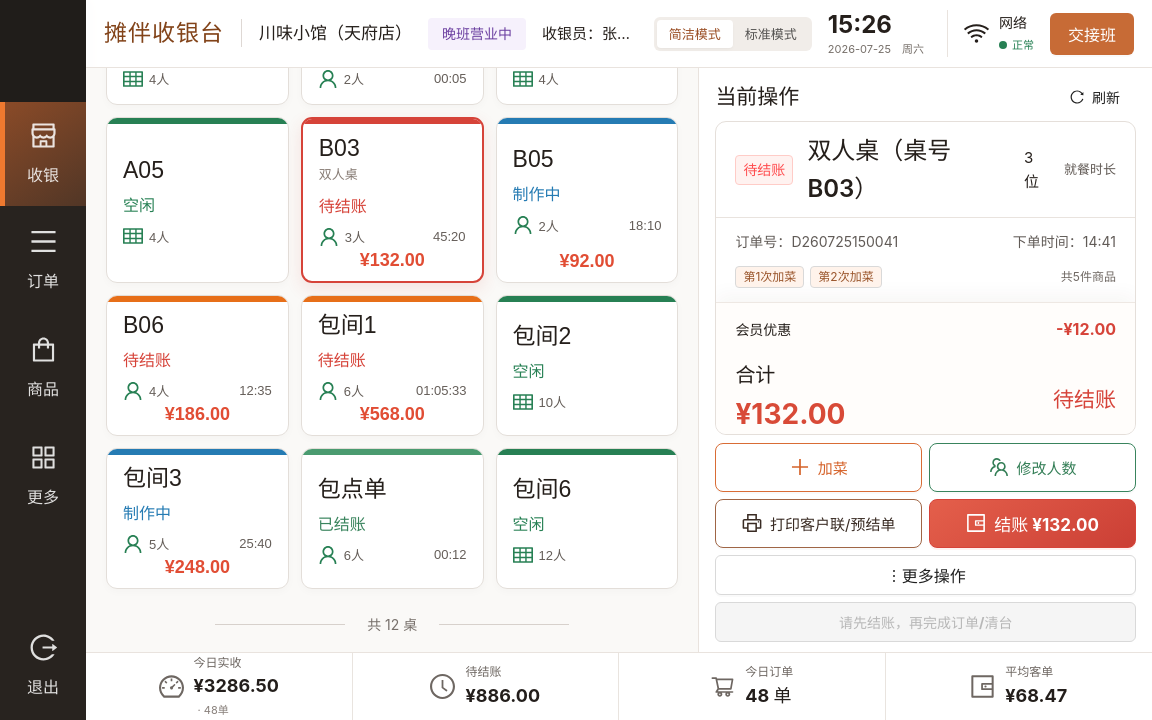
cashier operations › keeps rapid table switching in compact mode and focuses only in standard mode
The image size is (1152, 720).
(page scrolled)
Expected: the element with class "cashier-operation" is shown, [698, 68, 1151, 652]
Click the button "B06 待结账 4人 12:35 ¥186.00" at (197, 365), box [106, 295, 289, 436]
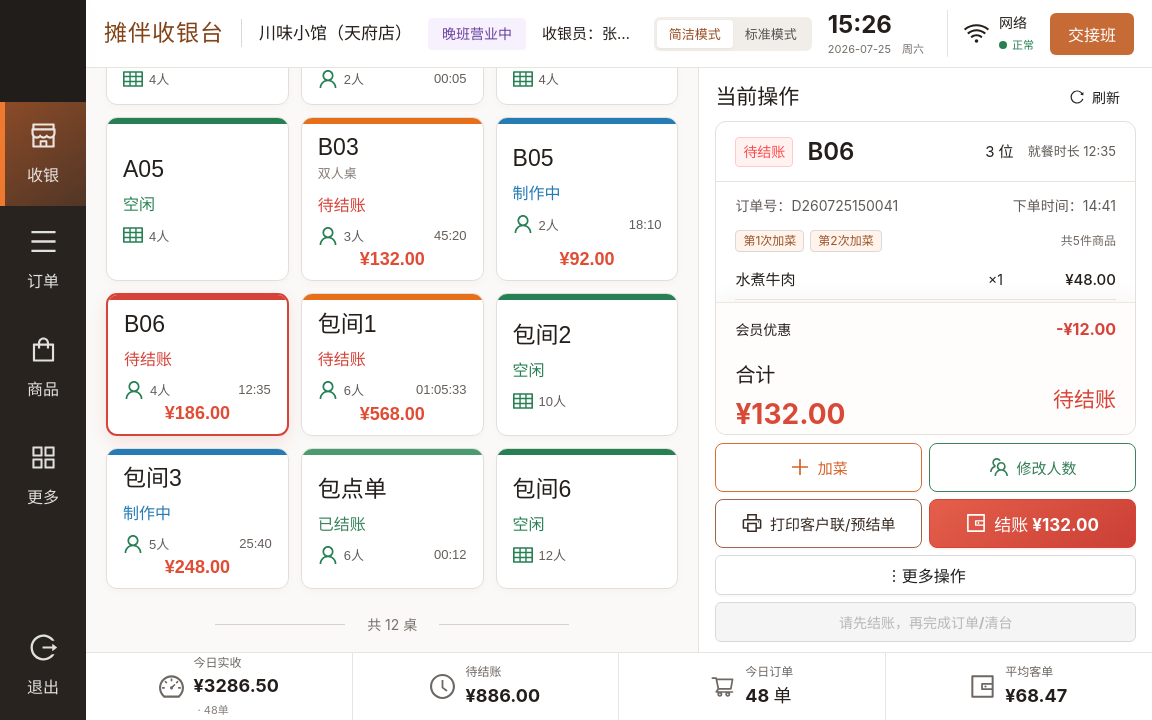
Expected: the element with class "cashier-operation" is shown, [698, 68, 1151, 652]
Click the text "标准模式" at (771, 34), box [745, 26, 797, 42]
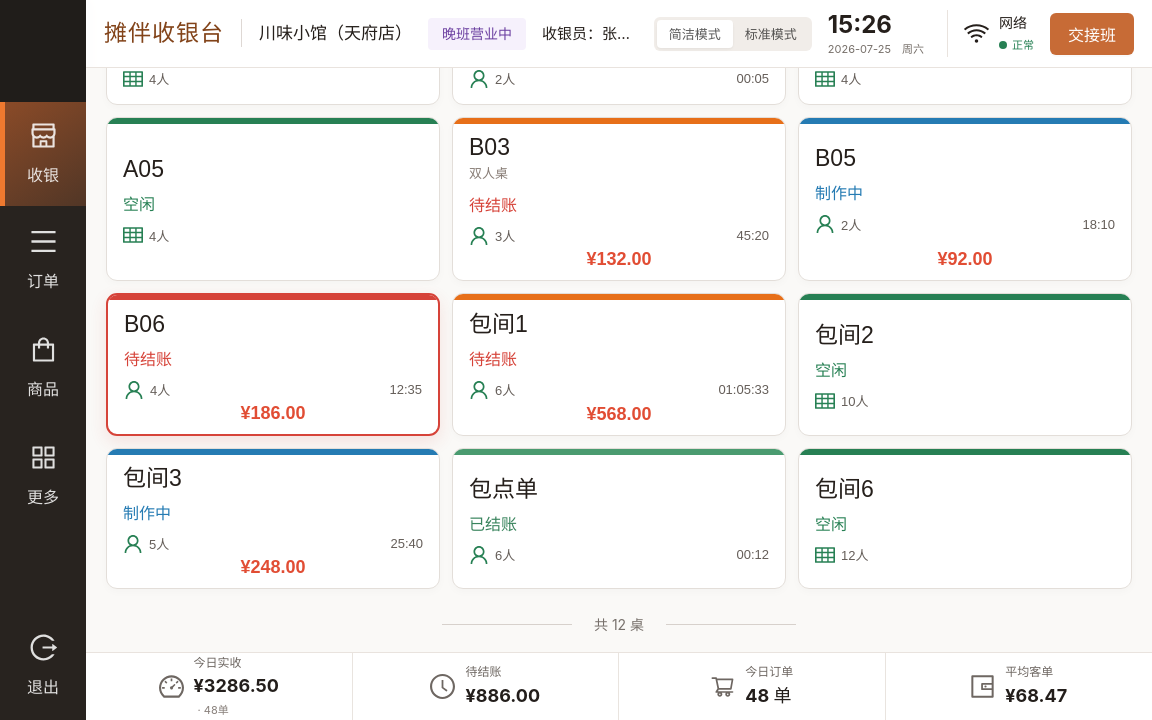
Now the element with class "cashier-operation" is gone
Click the button "B03 双人桌 待结账 3人 45:20 ¥132.00" at (489, 147), box [452, 117, 786, 281]
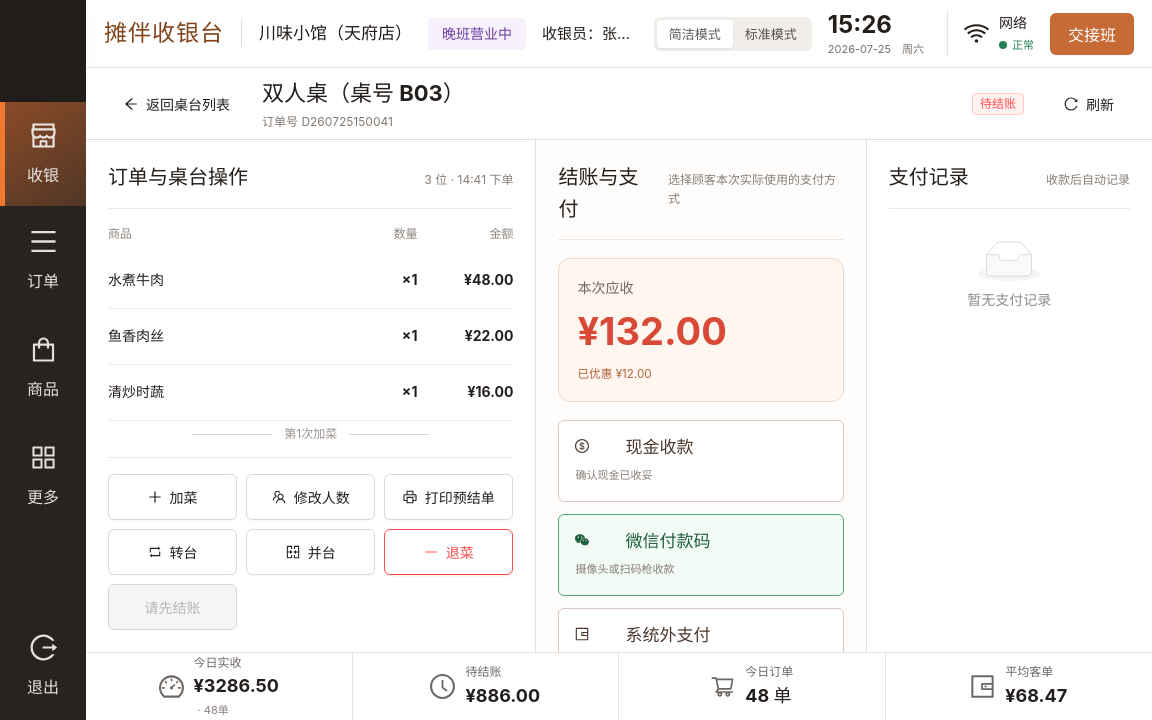
Now the text "订单与桌台操作" is shown, box [108, 162, 248, 194]
Now the text "结账与支付" is shown, box [558, 165, 638, 221]
Now the text "支付记录" is shown, box [889, 162, 969, 194]
Click the button "返回桌台列表" at (177, 104), box [108, 88, 246, 120]
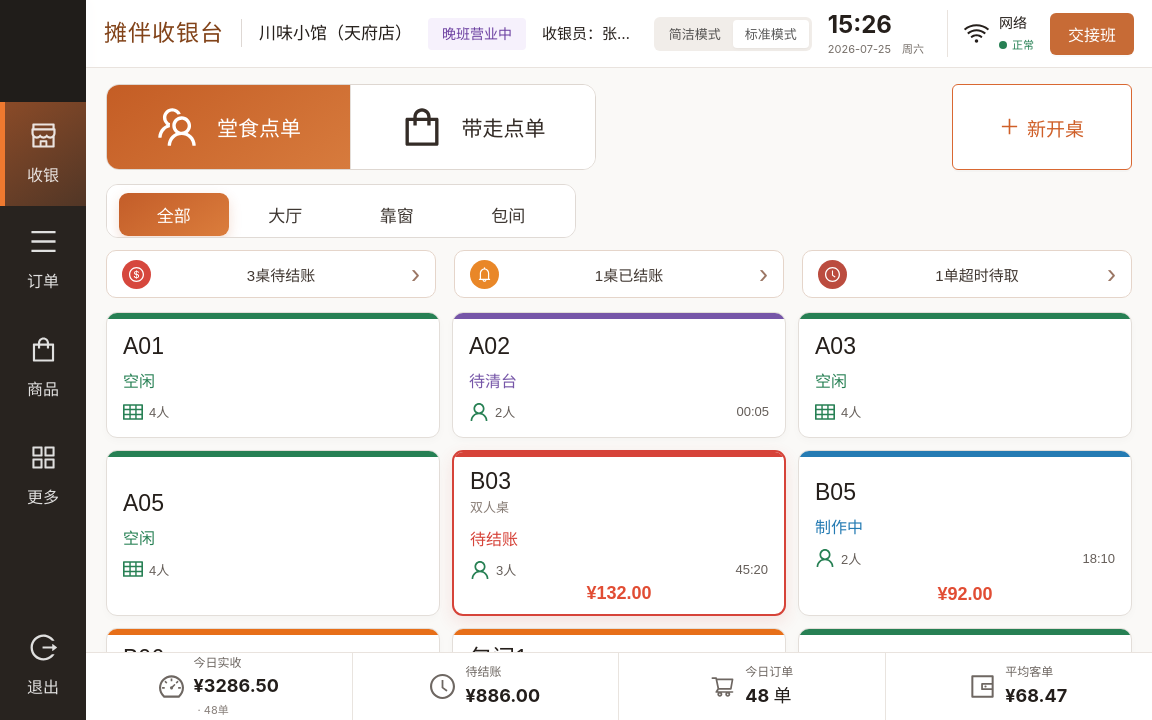
Now the button "B03 双人桌 待结账 3人 45:20 ¥132.00" is shown, box [452, 450, 786, 616]
